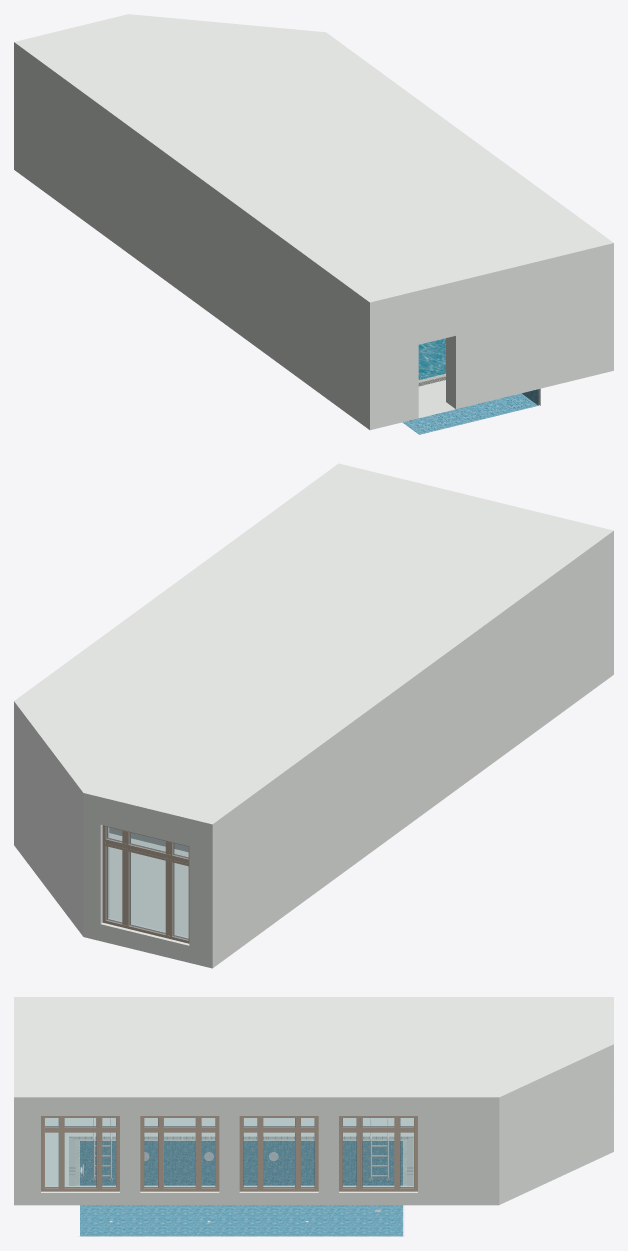
Rendered from pool.glb.
3 renders of one model, top to bottom at view 1: azimuth 30°, elevation 25°; view 2: azimuth 150°, elevation 25°; view 3: azimuth 270°, elevation 25°, orthographic. The views are drawn at different scales.
Visible parts, largest first — view 1: Material2 (×3), Material3; view 2: Material2 (×3), Material3; view 3: Material2 (×7), Material3.
Boxes of the visible parts, x1,y1,x2,y2 form: Material2 (×3): [14, 14, 613, 434]; Material3: [418, 380, 455, 418]; Material2 (×3): [14, 463, 613, 968]; Material3: [109, 833, 188, 936]; Material2 (×7): [14, 997, 613, 1236]; Material3: [45, 1118, 413, 1185].
Size of the model in its own units: 276 by 197 by 696.
21 materials, 21 textured.
